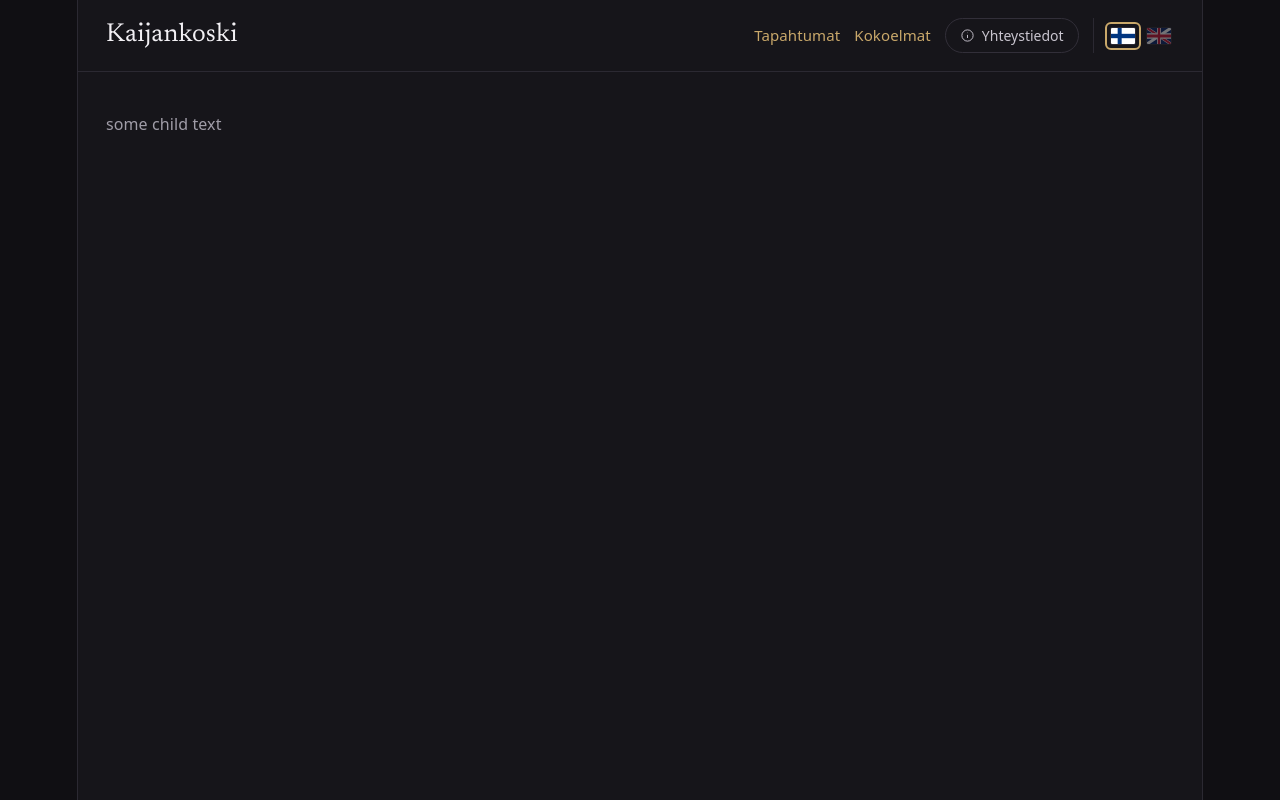
Test: Layout › opens the contact modal from the Info pill and closes on Escape
The image size is (1280, 800).
Click the button "Yhteystiedot" at (1012, 36), box x1=945 y1=18 x2=1079 y2=53
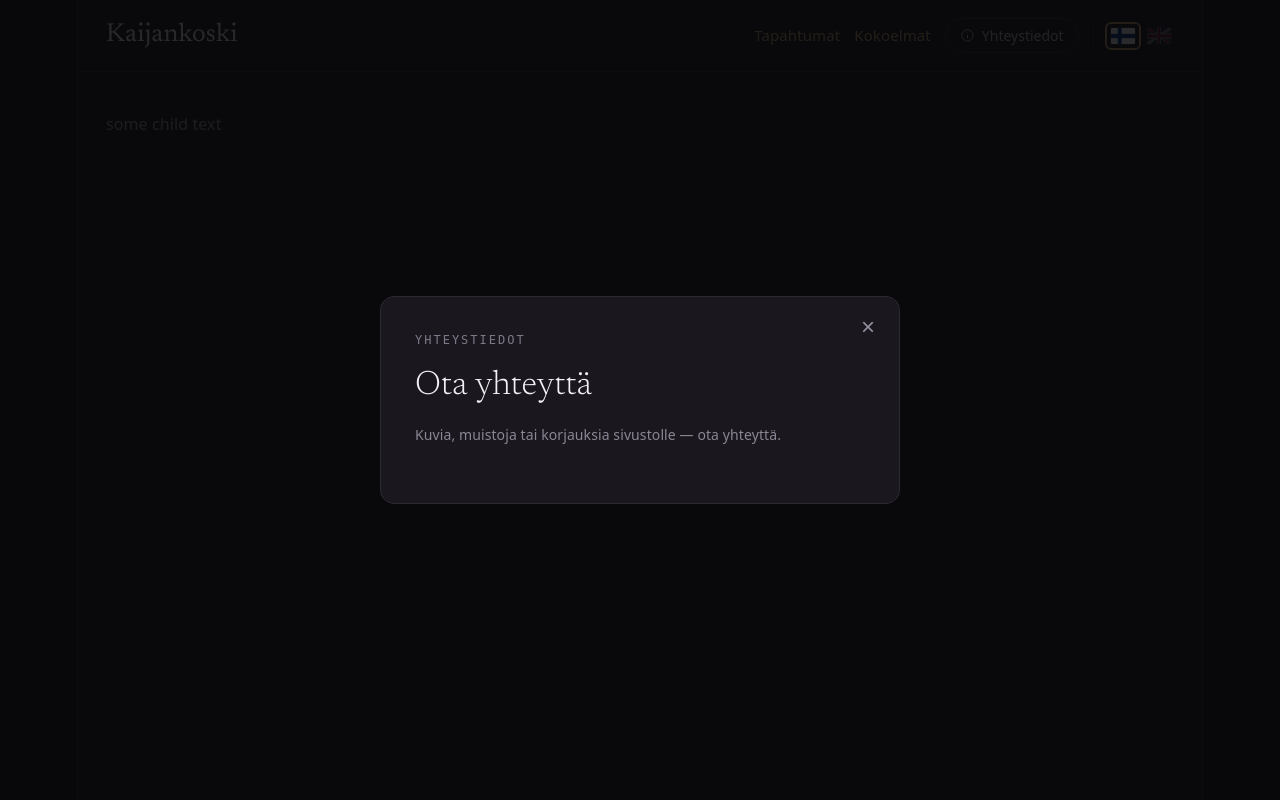
Result: the dialog is shown
Result: the heading "Ota yhteyttä" is shown at x1=415 y1=369 x2=592 y2=403
Press Escape
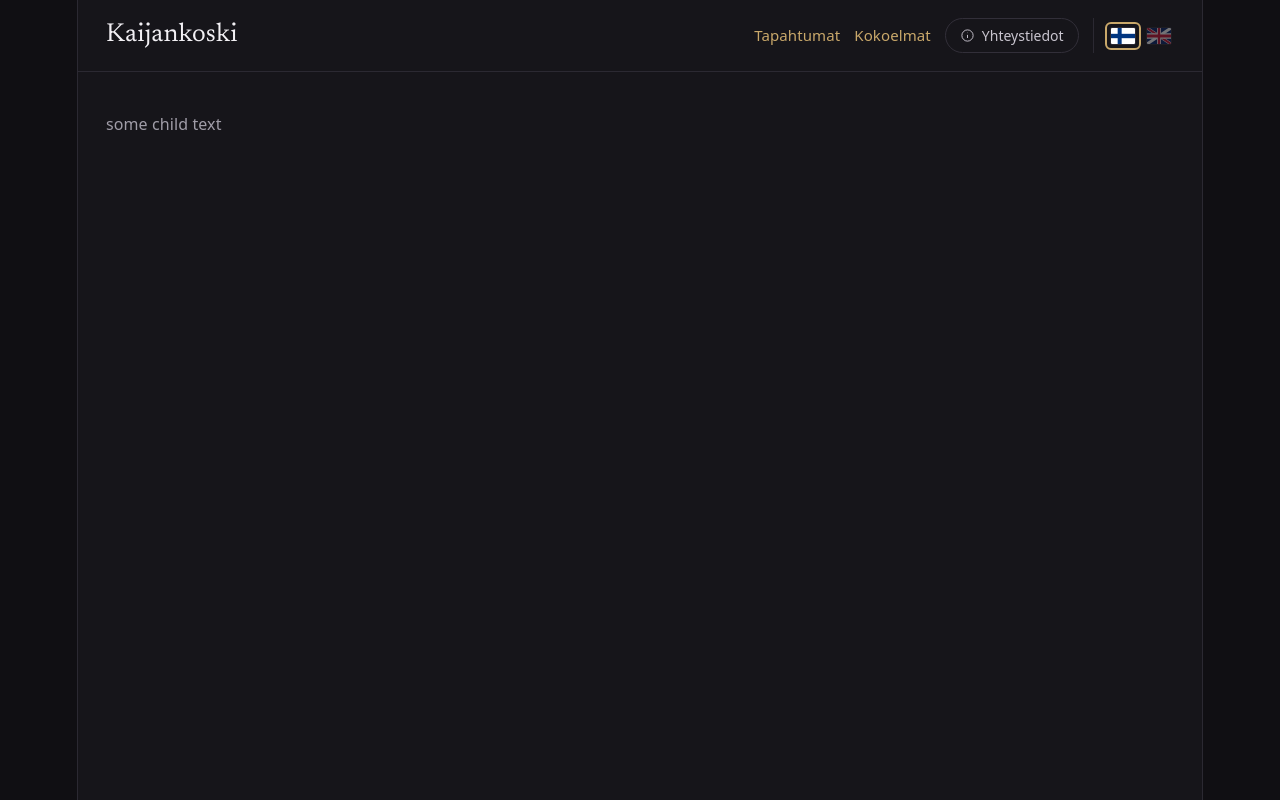
Result: the dialog is gone
